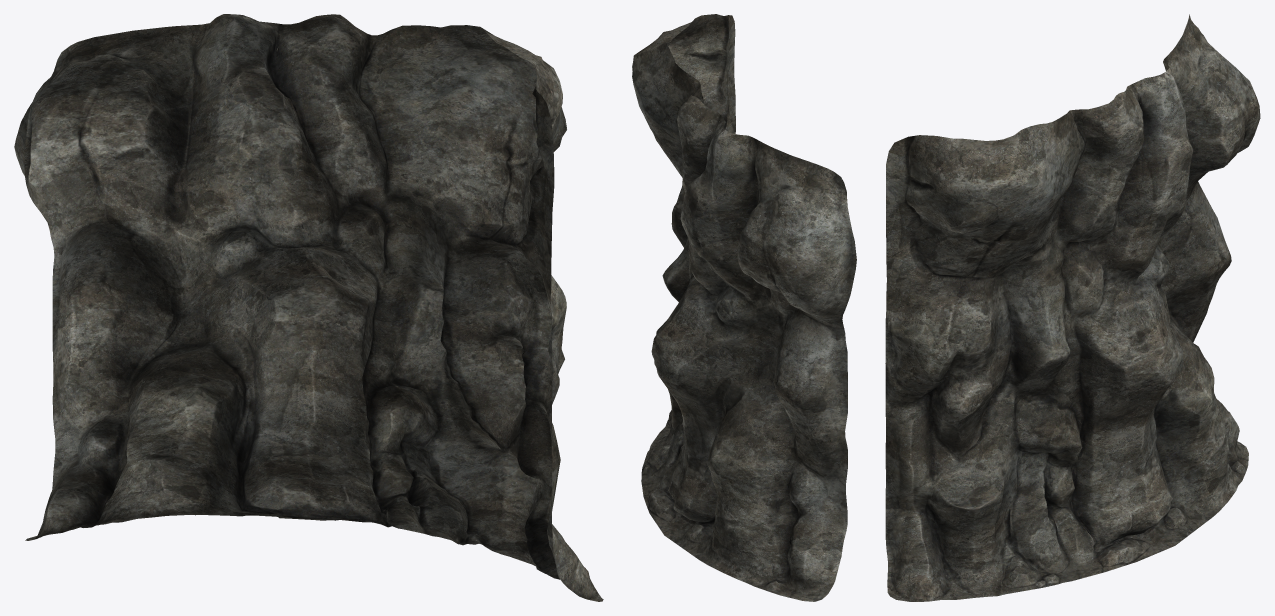
The model's file is cave_ravine_wall_01_convex.dae.
3 views of the same model, side by side, from view 1: azimuth 30°, elevation 25°; view 2: azimuth 150°, elevation 25°; view 3: azimuth 270°, elevation 25° (orthographic). The views are drawn at different scales.
Parts seen in each view (by area): view 1: wall_1_convex; view 2: wall_1_convex; view 3: wall_1_convex.
Part boxes in pixels (bbox=[...]): wall_1_convex: bbox=[14, 14, 603, 601]; wall_1_convex: bbox=[632, 14, 856, 601]; wall_1_convex: bbox=[885, 14, 1260, 601].
Size of what is drawn, in the model's own units: 3.25 by 4.11 by 3.08.
